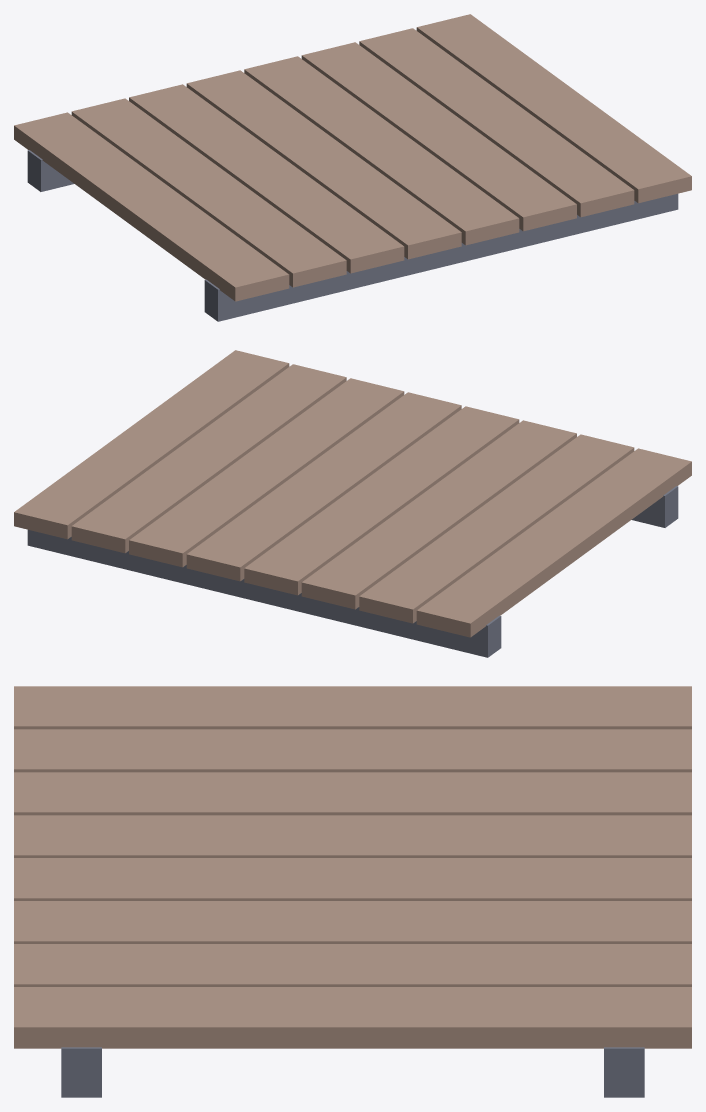
File: 05_Boardwalk_12x10.glb
The picture shows the model from 3 angles, top to bottom: view 1: azimuth 30°, elevation 25°; view 2: azimuth 150°, elevation 25°; view 3: azimuth 270°, elevation 25°; orthographic projection. The views are drawn at different scales.
Visible parts, largest first — view 1: 05_Boardwalk_12x10; view 2: 05_Boardwalk_12x10; view 3: 05_Boardwalk_12x10.
Part boxes in pixels (x1,y1,x2,y2): 05_Boardwalk_12x10: (14,14,691,321); 05_Boardwalk_12x10: (14,350,691,657); 05_Boardwalk_12x10: (14,686,691,1097).
Size of the model in its own units: 12 by 1.13 by 10.
